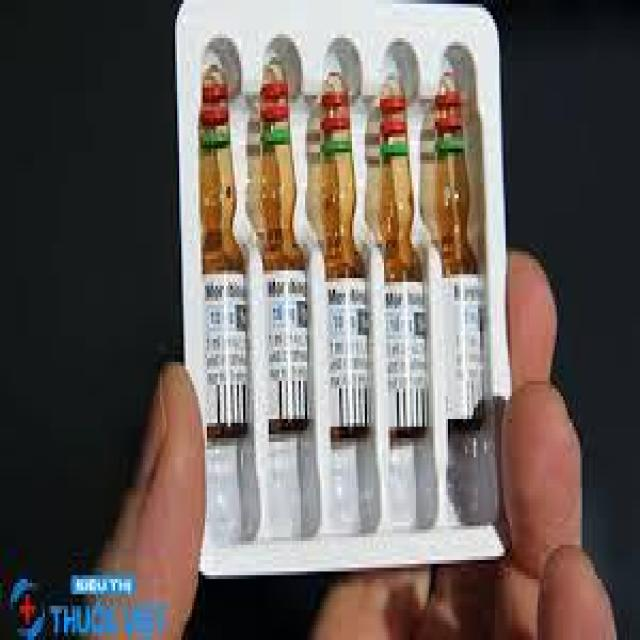B3: (184, 38, 262, 549), (303, 46, 378, 533)
